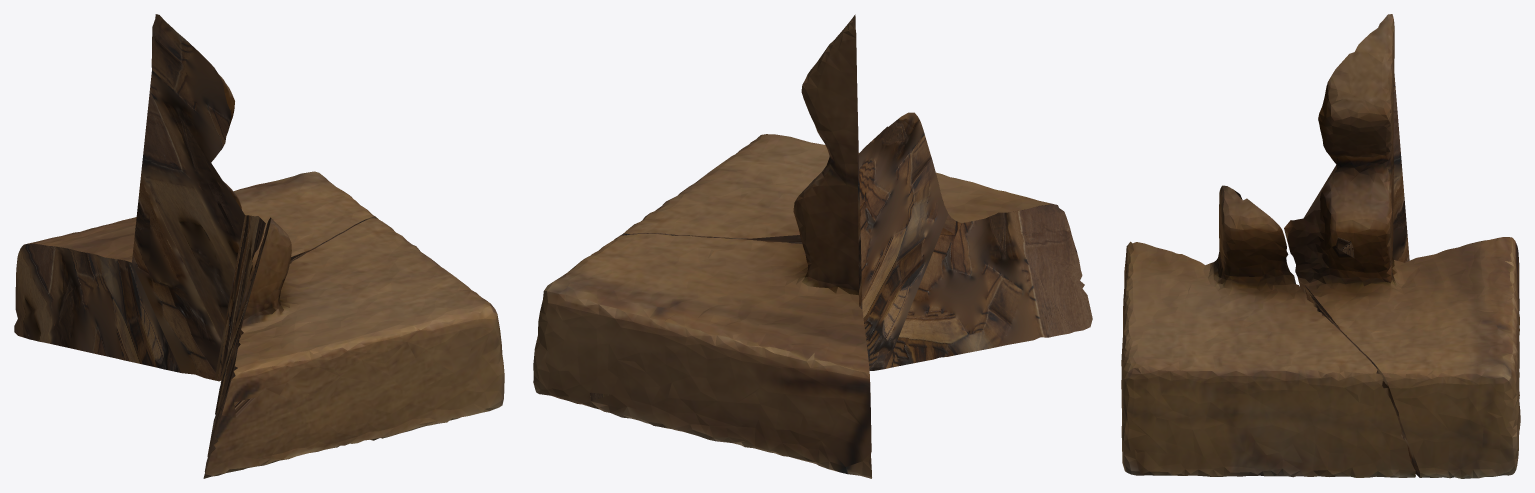
File: FrontLeg.fbx
The picture shows the model from 3 angles, left to right: view 1: azimuth 30°, elevation 25°; view 2: azimuth 150°, elevation 25°; view 3: azimuth 270°, elevation 25°; orthographic projection. The views are drawn at different scales.
Visible parts, largest first — view 1: KLA-Or-10000_cell.006; view 2: KLA-Or-10000_cell.006; view 3: KLA-Or-10000_cell.006.
Boxes of the visible parts, left/top/right/bottom form: KLA-Or-10000_cell.006: left=14, top=14, right=504, bottom=478; KLA-Or-10000_cell.006: left=533, top=14, right=1092, bottom=478; KLA-Or-10000_cell.006: left=1121, top=14, right=1520, bottom=478.
Bounding box in the file's own units: 39.52 × 43.12 × 43.6.
